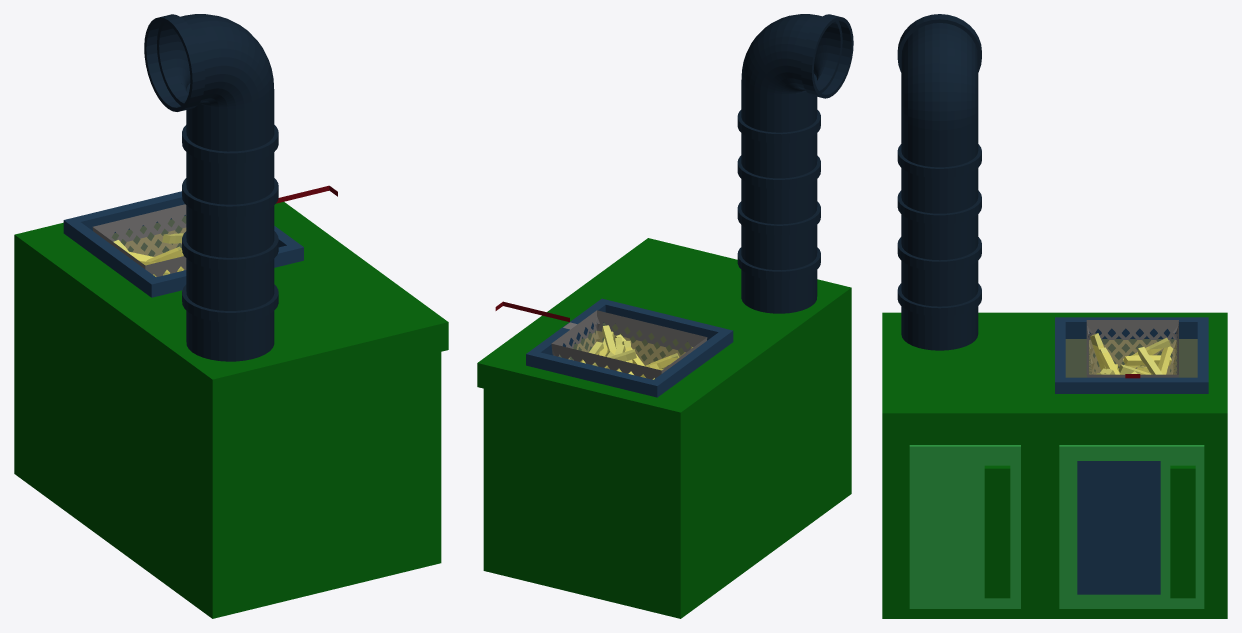
File: Cooker.glb
The picture shows the model from 3 angles, left to right: view 1: azimuth 30°, elevation 25°; view 2: azimuth 150°, elevation 25°; view 3: azimuth 270°, elevation 25°; orthographic projection. The views are drawn at different scales.
Visible parts, largest first — view 1: Cube, Cylinder, Cube.003, Cube.014, Cube.017, Cube.015; view 2: Cube, Cylinder, Cube.003, Cube.014, Cube.017, Cube.015; view 3: Cube, Cylinder, Cube.002, Cube.001, Cube.003, Cube.017, Cube.005, Cube.004, Cube.014, Cube.015.
Part boxes in pixels (left/top/right/bottom): Cube: left=14, top=202, right=448, bottom=618; Cylinder: left=144, top=14, right=278, bottom=361; Cube.003: left=63, top=191, right=303, bottom=297; Cube.014: left=92, top=185, right=337, bottom=277; Cube.017: left=112, top=216, right=185, bottom=276; Cube.015: left=113, top=233, right=184, bottom=276; Cube: left=477, top=238, right=851, bottom=618; Cylinder: left=737, top=14, right=853, bottom=313; Cube.003: left=526, top=298, right=733, bottom=397; Cube.014: left=495, top=301, right=707, bottom=379; Cube.017: left=559, top=323, right=690, bottom=377; Cube.015: left=580, top=325, right=692, bottom=379; Cube: left=882, top=312, right=1227, bottom=618; Cylinder: left=897, top=14, right=981, bottom=350; Cube.002: left=1059, top=445, right=1204, bottom=608; Cube.001: left=909, top=445, right=1020, bottom=608; Cube.003: left=1055, top=317, right=1208, bottom=393; Cube.017: left=1066, top=339, right=1197, bottom=377; Cube.005: left=984, top=465, right=1010, bottom=598; Cube.004: left=1170, top=465, right=1195, bottom=598; Cube.014: left=1086, top=320, right=1178, bottom=378; Cube.015: left=1090, top=333, right=1173, bottom=374.
Size of the model in its own units: 2.18 by 4.34 by 2.7.
